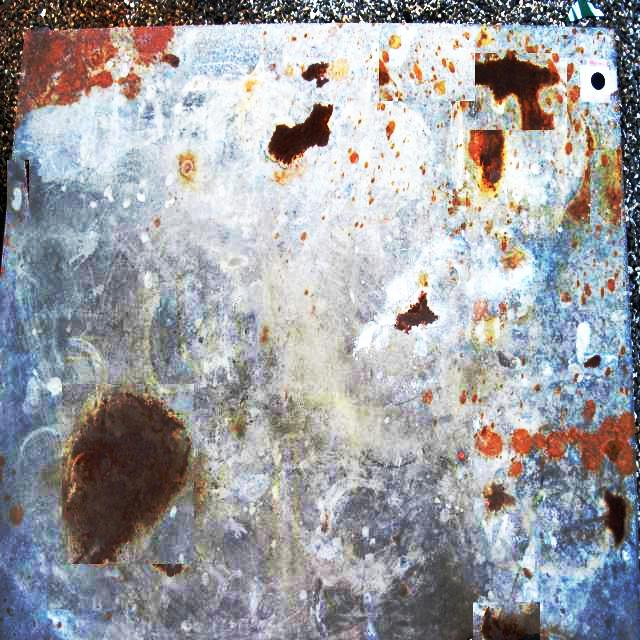Corrosion: (63, 394, 189, 565), (19, 26, 178, 106), (512, 414, 636, 475), (475, 52, 559, 130), (268, 104, 333, 164), (473, 604, 540, 640), (470, 130, 503, 184), (395, 291, 437, 332), (568, 165, 591, 220), (605, 492, 627, 545), (476, 427, 502, 458), (484, 485, 512, 512), (608, 171, 624, 210), (302, 63, 326, 86), (586, 355, 601, 368), (390, 34, 402, 48)
